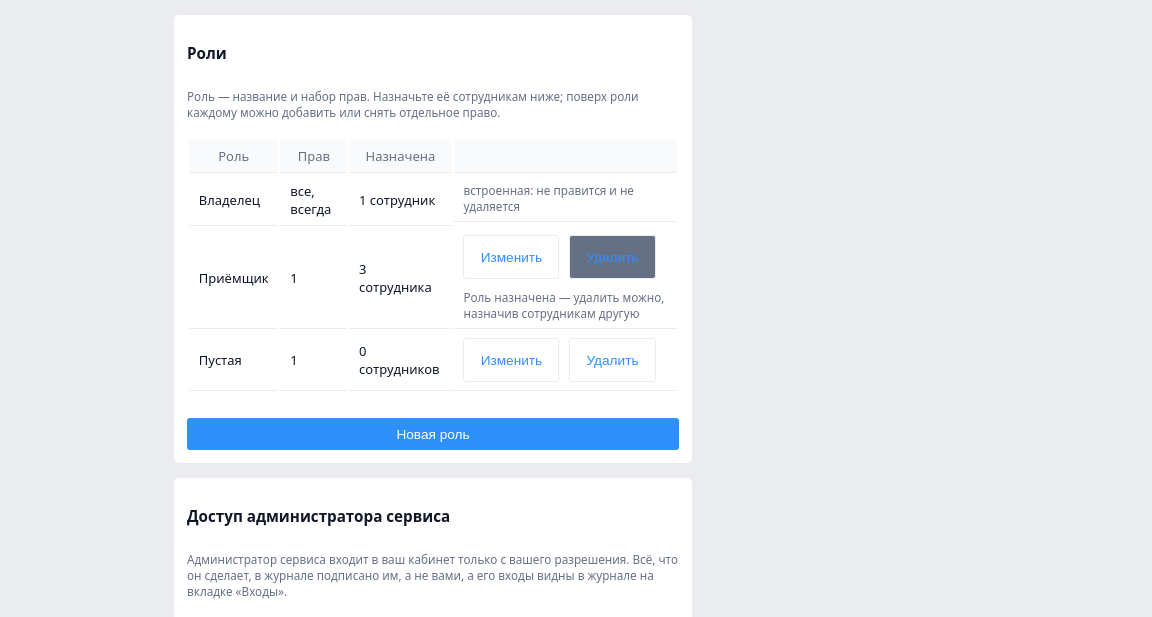
Test: роли и права на экране сотрудников › правка назначенной роли предупреждает, что поменяются права у всех и закроются входы
This screenshot has width=1152, height=617.
(page scrolled)
Click the button with aria-label "Изменить роль: Приёмщик" at (511, 257), box [463,235,559,279]
(page scrolled)
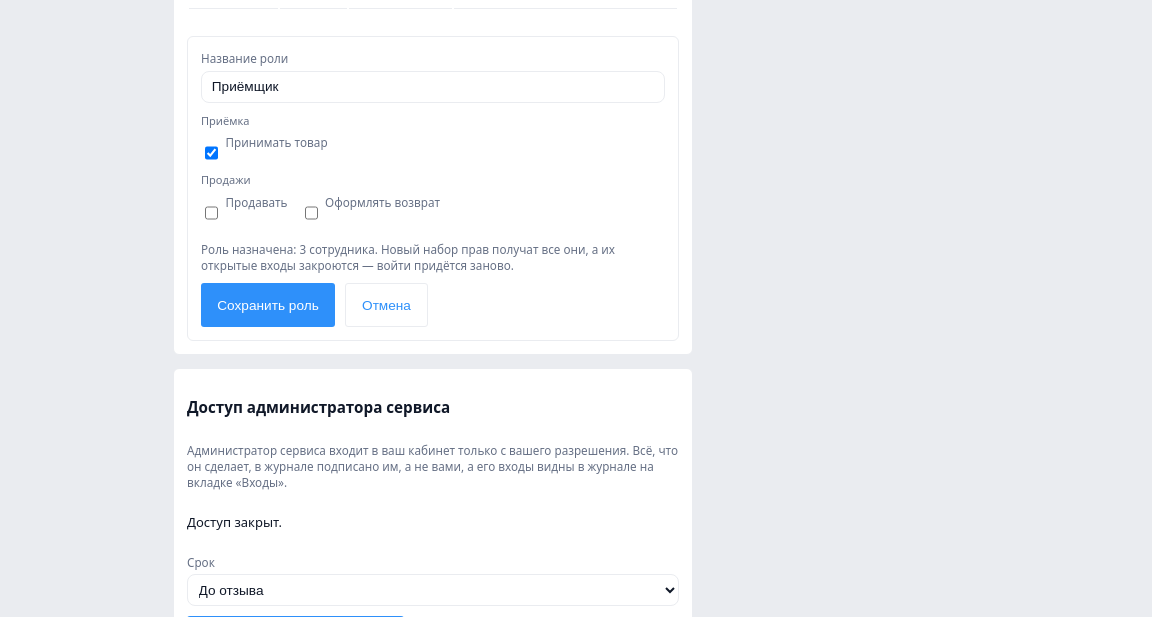
Now the text "Новый набор прав получат все они" is shown, box [201,241,615,273]
Now the text "Роль назначена: 3.сотрудника" is shown, box [201,241,665,273]
